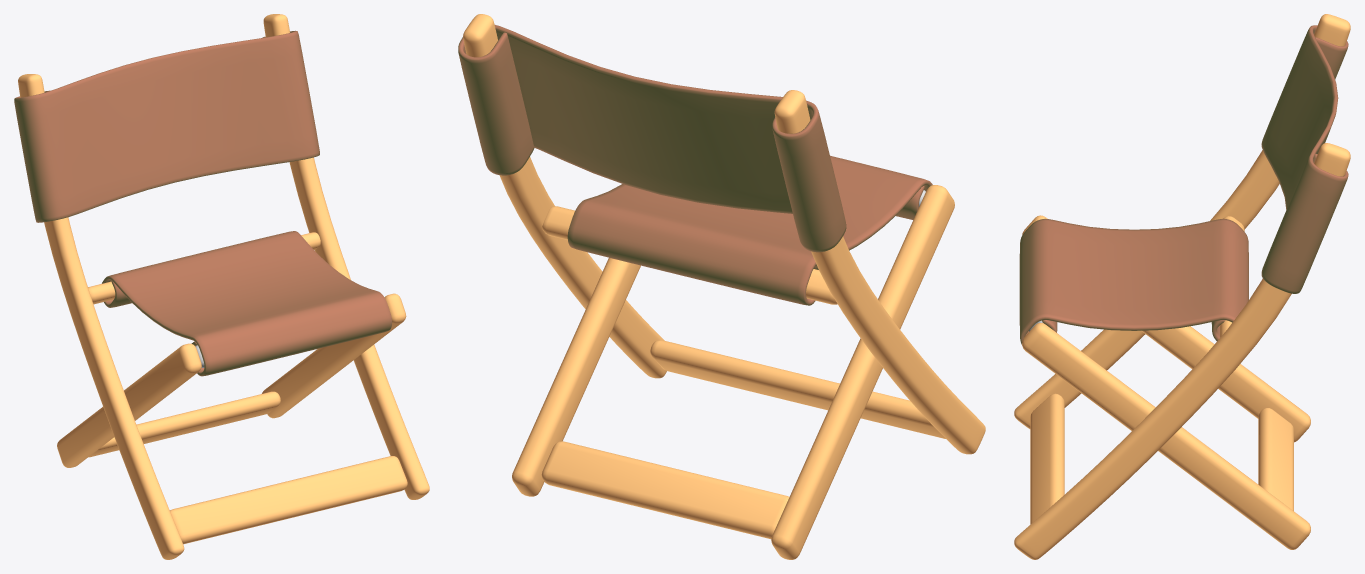
The model's file is decoration_Chair.fbx.
3 renders of one model, left to right at view 1: azimuth 30°, elevation 25°; view 2: azimuth 150°, elevation 25°; view 3: azimuth 270°, elevation 25°, orthographic. The views are drawn at different scales.
Parts seen in each view (by area): view 1: Cube.016, Cube.014, Cube.007, Cube.010, Cube.009, Cube.011, Cube.013; view 2: Cube.016, Cube.014, Cube.009, Cube.007, Cube.011, Cube.010, Cube.013; view 3: Cube.014, Cube.007, Cube.009, Cube.016, Cube.010, Cube.011.
Part boxes in pixels (left/top/right/bottom): Cube.016: left=14, top=30, right=319, bottom=222; Cube.014: left=102, top=231, right=392, bottom=376; Cube.007: left=18, top=14, right=429, bottom=559; Cube.010: left=170, top=456, right=407, bottom=544; Cube.009: left=57, top=293, right=406, bottom=467; Cube.011: left=88, top=391, right=280, bottom=457; Cube.013: left=88, top=232, right=320, bottom=304; Cube.016: left=458, top=25, right=846, bottom=252; Cube.014: left=567, top=155, right=932, bottom=305; Cube.009: left=512, top=185, right=954, bottom=559; Cube.007: left=463, top=14, right=985, bottom=454; Cube.011: left=541, top=441, right=789, bottom=539; Cube.010: left=650, top=340, right=945, bottom=438; Cube.013: left=542, top=206, right=837, bottom=304; Cube.014: left=1019, top=218, right=1248, bottom=344; Cube.007: left=1014, top=14, right=1350, bottom=559; Cube.009: left=1022, top=215, right=1310, bottom=549; Cube.016: left=1261, top=25, right=1348, bottom=293; Cube.010: left=1030, top=393, right=1064, bottom=524; Cube.011: left=1258, top=408, right=1293, bottom=510.
Bounding box in the file's own units: 301 × 399 × 293.
